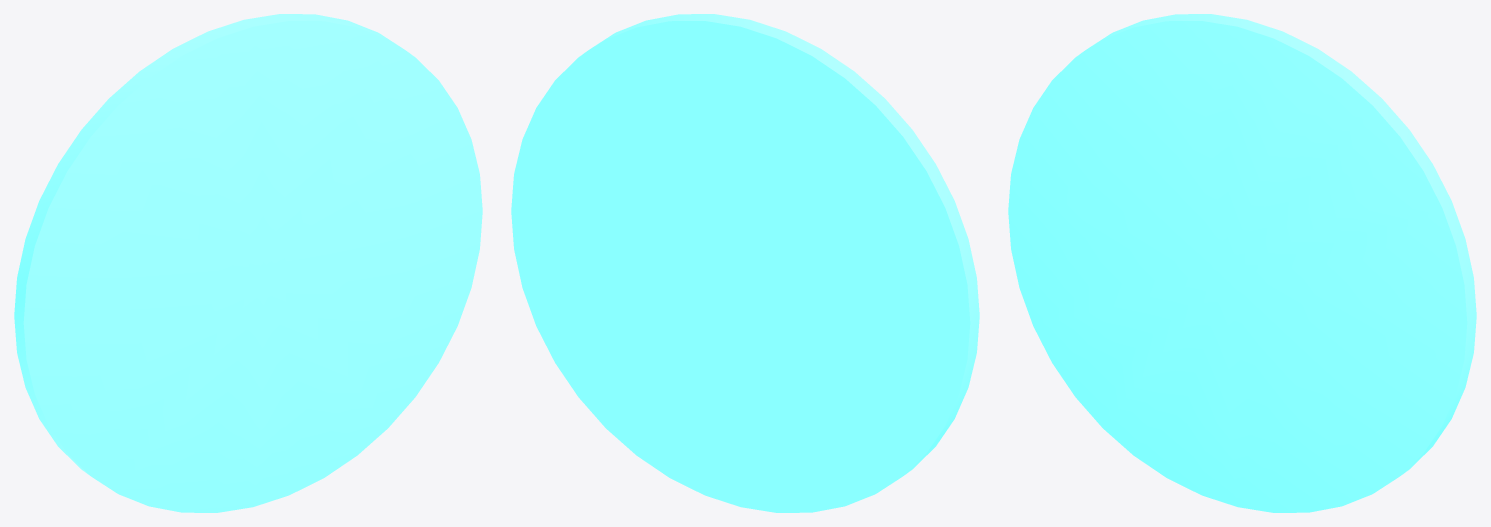
Rendered from EM_Screen.fbx.
3 views of the same model, side by side, from view 1: azimuth 30°, elevation 25°; view 2: azimuth 150°, elevation 25°; view 3: azimuth 330°, elevation 25° (orthographic).
Visible parts, largest first — view 1: EM_Screen; view 2: EM_Screen; view 3: EM_Screen.
Part boxes in pixels (left/top/right/bottom): EM_Screen: left=14, top=14, right=482, bottom=512; EM_Screen: left=511, top=14, right=979, bottom=512; EM_Screen: left=1008, top=14, right=1476, bottom=512.
Size of the model in its own units: 1.12 by 1.12 by 0.085.
